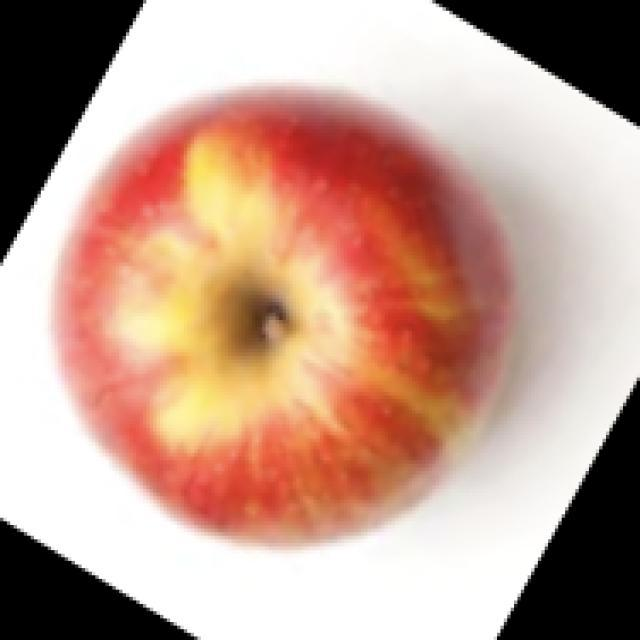Apple: (50, 81, 515, 544)
